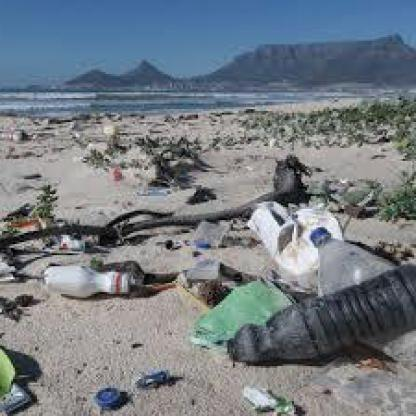Plastic: (225, 264, 416, 371), (302, 228, 390, 288), (41, 262, 142, 300)
